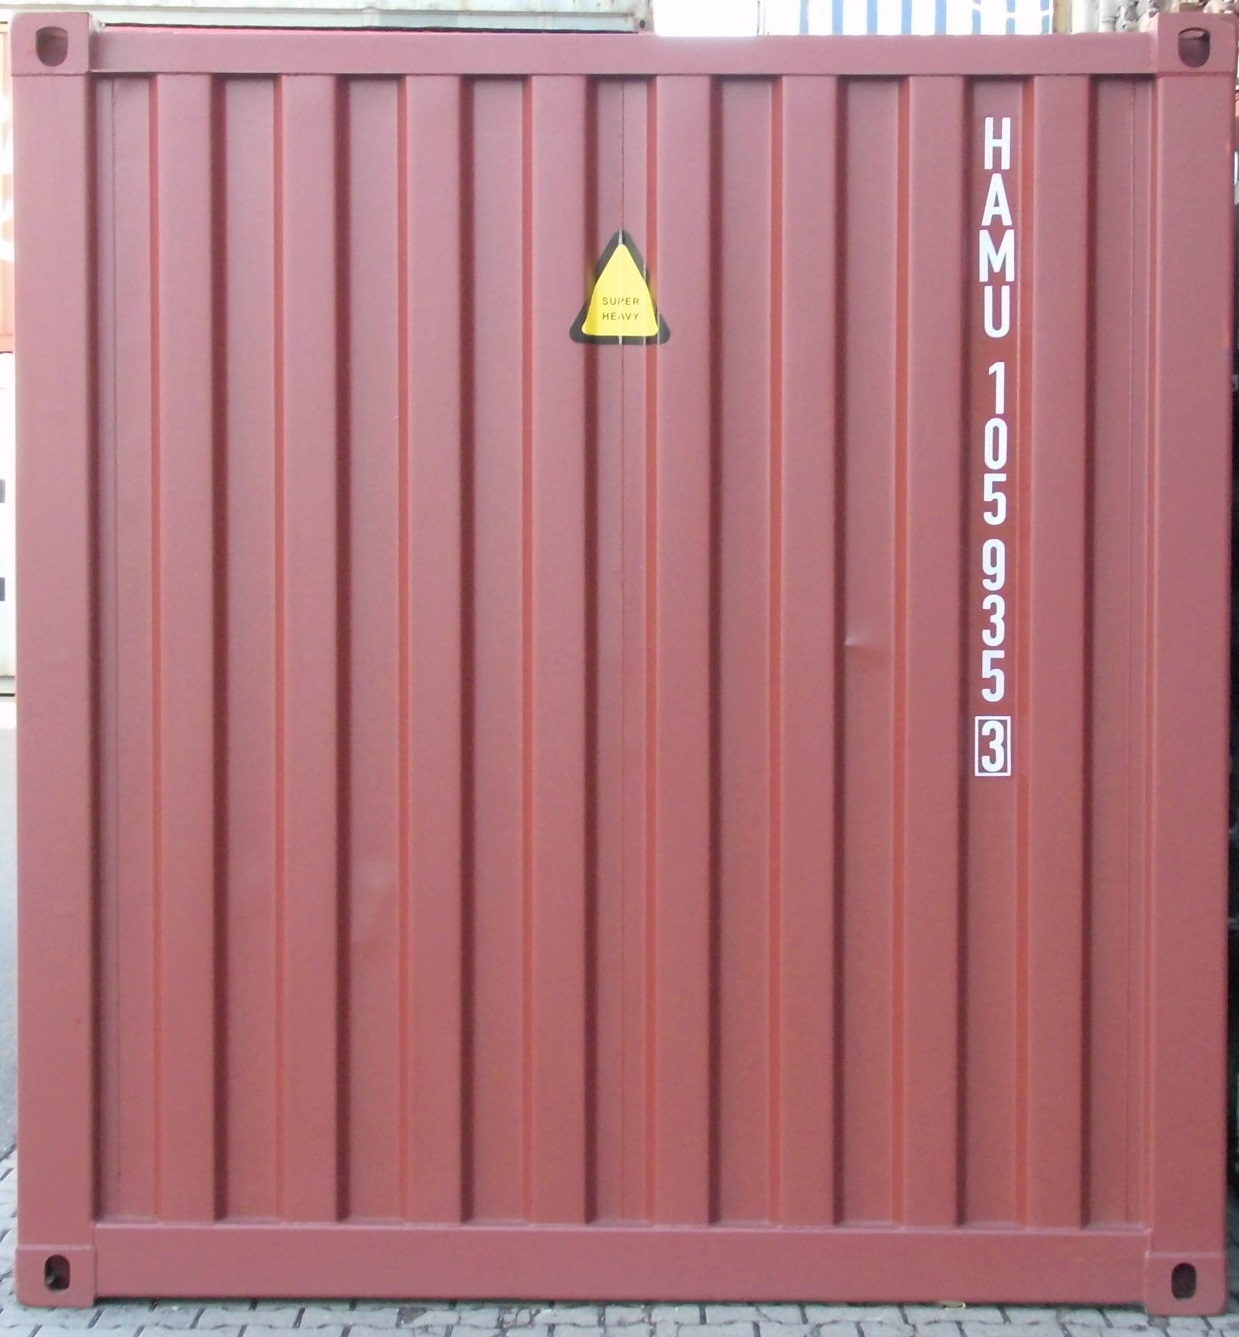container_no_door: (12, 17, 1226, 1306)
